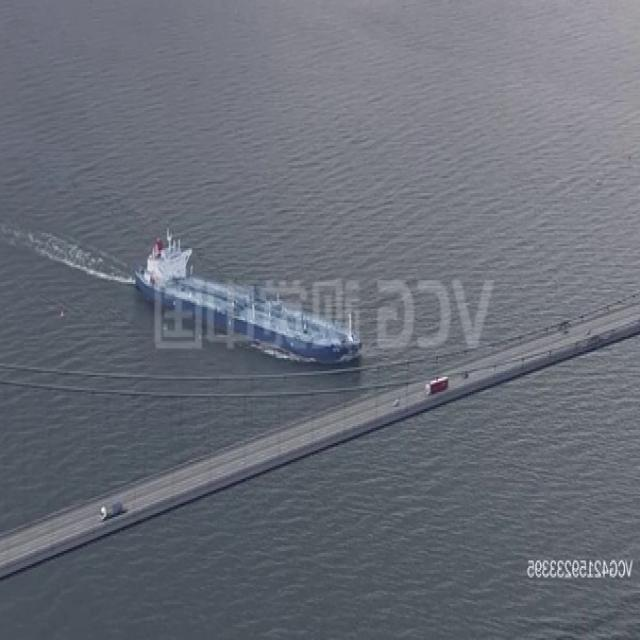cargoship: (135, 231, 365, 358)
